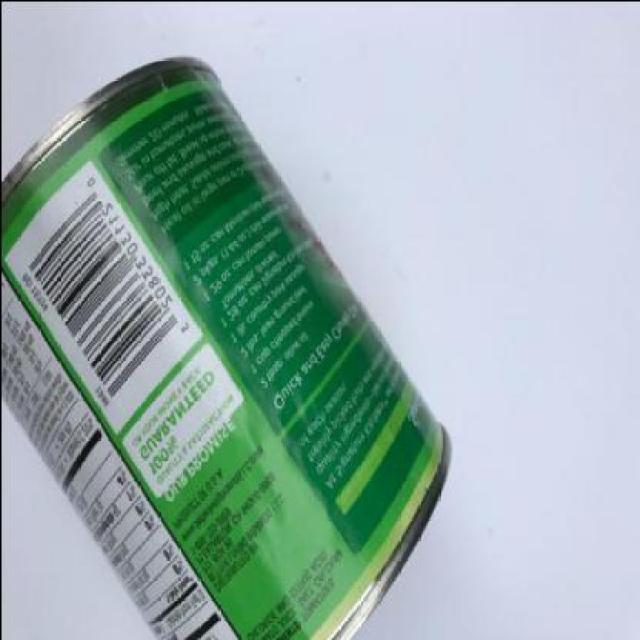METAL: (1, 54, 450, 638)
